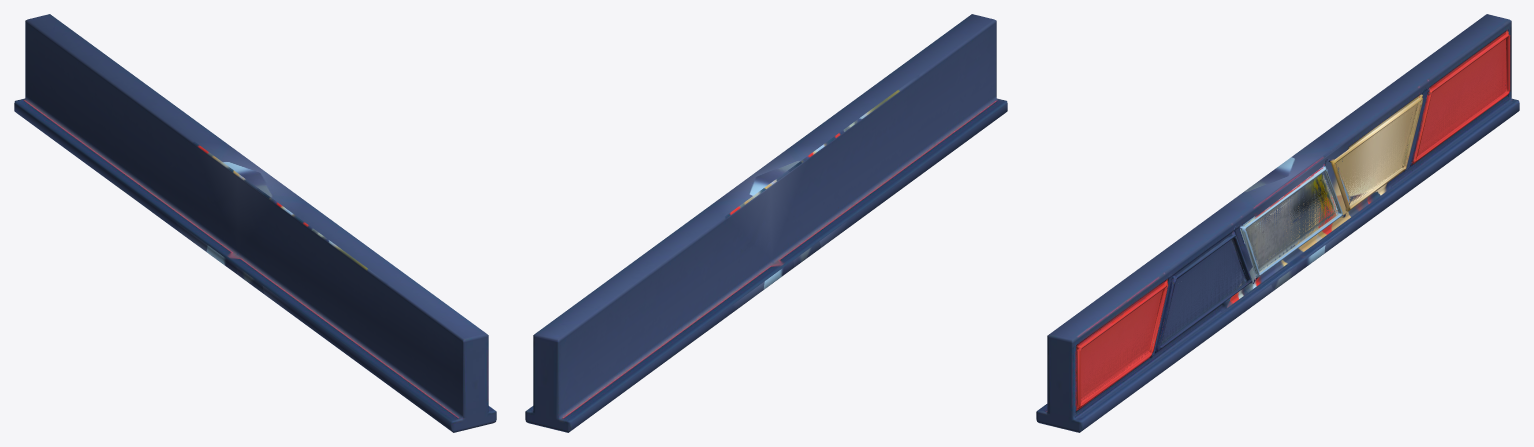
The model's file is pitchside-board.glb.
3 views of the same model, side by side, from view 1: azimuth 30°, elevation 25°; view 2: azimuth 150°, elevation 25°; view 3: azimuth 330°, elevation 25° (orthographic).
Visible parts, largest first — view 1: Blank pitchside board; view 2: Blank pitchside board; view 3: Blank pitchside board.
Part boxes in pixels (<box>): Blank pitchside board: <box>14,14,496,432</box>; Blank pitchside board: <box>525,14,1007,432</box>; Blank pitchside board: <box>1036,14,1519,432</box>.
Size of the model in its own units: 0.0605 by 0.1152 by 0.998.
1 material, 1 textured.
